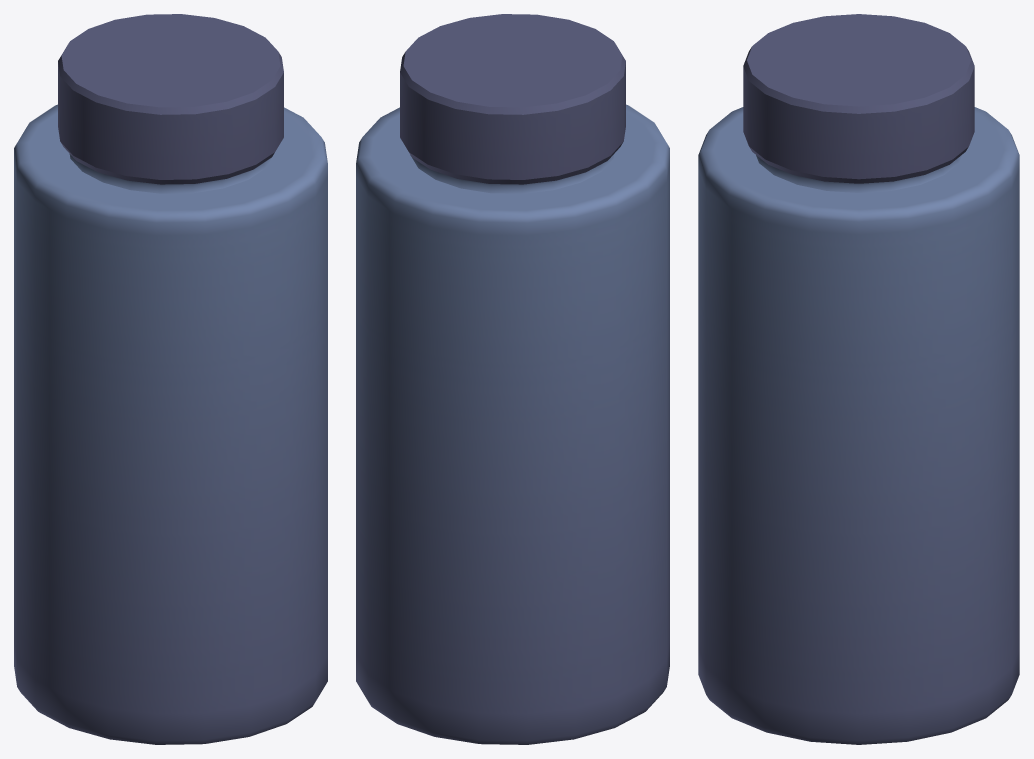
File: bottle_flat_darkBlue.fbx
3 renders of one model, left to right at view 1: azimuth 30°, elevation 25°; view 2: azimuth 150°, elevation 25°; view 3: azimuth 270°, elevation 25°, orthographic.
Parts seen in each view (by area): view 1: bottle_flat_darkBlue; view 2: bottle_flat_darkBlue; view 3: bottle_flat_darkBlue.
Boxes of the visible parts, bbox=[...] form: bottle_flat_darkBlue: bbox=[14, 14, 327, 744]; bottle_flat_darkBlue: bbox=[356, 14, 669, 744]; bottle_flat_darkBlue: bbox=[698, 14, 1019, 744].
Size of the model in its own units: 107 by 234 by 110.
